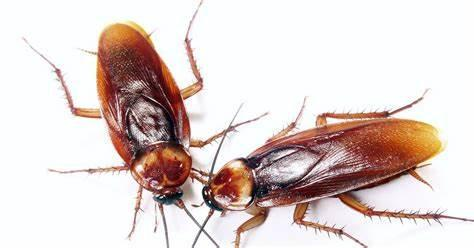cockroach: (201, 108, 446, 225), (92, 14, 200, 211)
